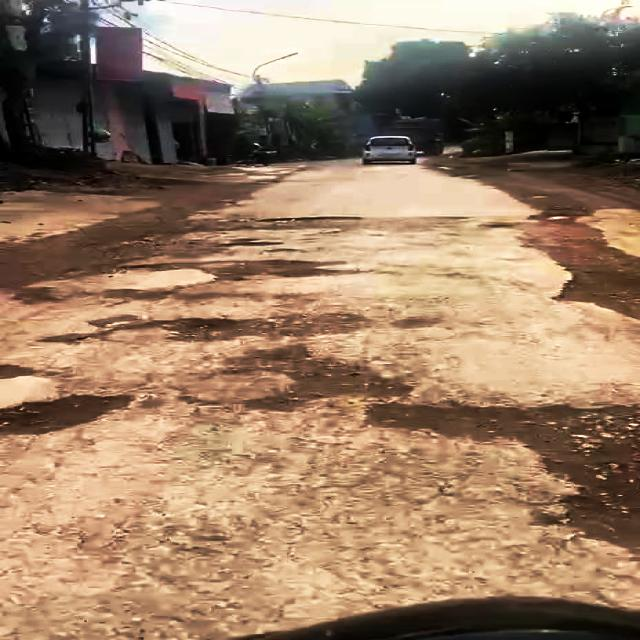pothole: (379, 394, 640, 559), (221, 344, 429, 409), (0, 387, 137, 440), (143, 314, 370, 344), (124, 258, 360, 283)
